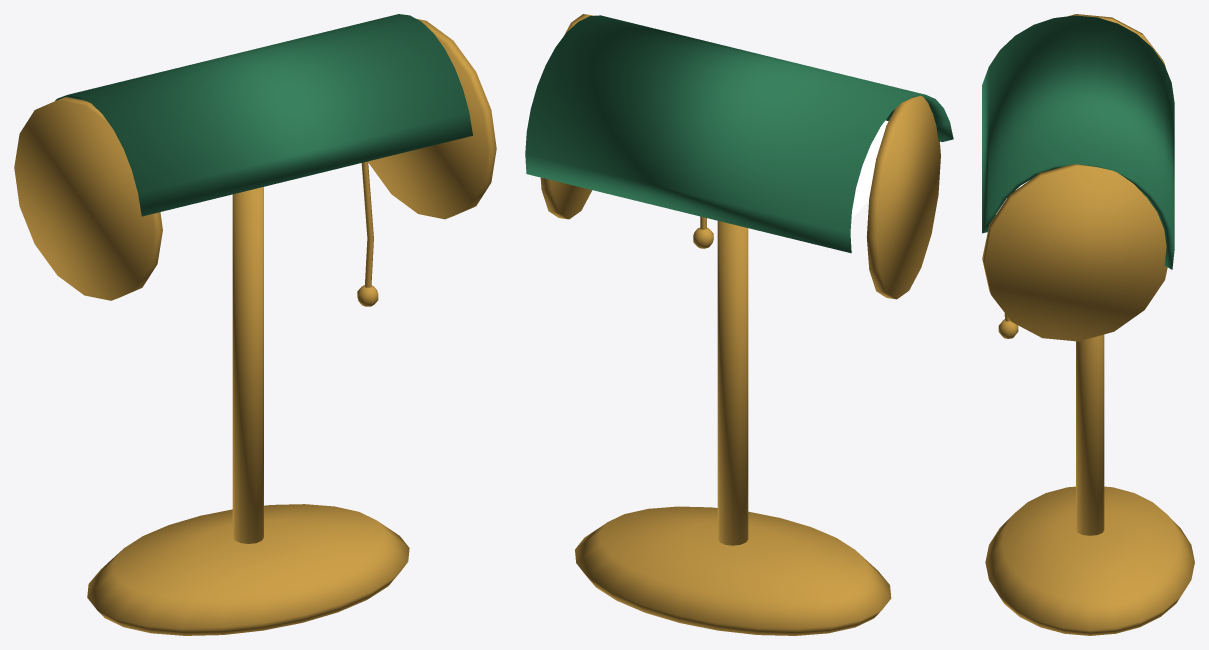
The model's file is RmLamp.fbx.
3 views of the same model, side by side, from view 1: azimuth 30°, elevation 25°; view 2: azimuth 150°, elevation 25°; view 3: azimuth 270°, elevation 25° (orthographic). The views are drawn at different scales.
Parts seen in each view (by area): view 1: RmLampBody; view 2: RmLampBody, Glow; view 3: RmLampBody.
Part boxes in pixels (<box>): RmLampBody: <box>14,14,496,635</box>; RmLampBody: <box>525,14,953,635</box>; Glow: <box>851,120,888,219</box>; RmLampBody: <box>982,14,1194,635</box>.
Size of the model in its own units: 0.3106 by 0.41 by 0.1641.
